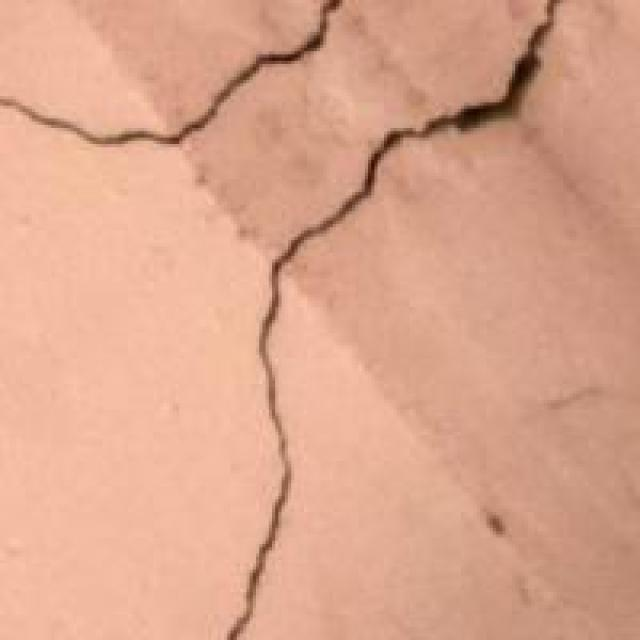crack: (3, 0, 554, 637)
